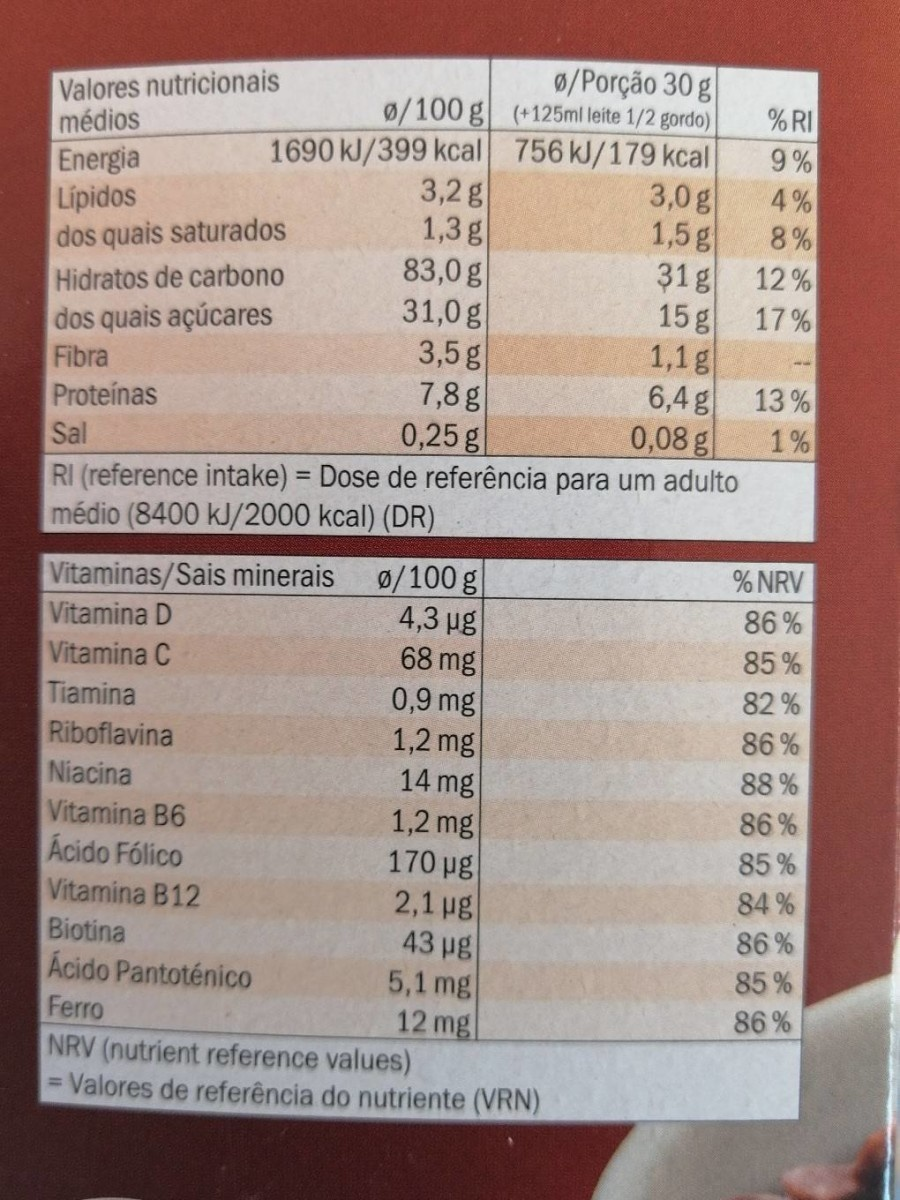column: (54, 77, 483, 450), (510, 68, 711, 454), (745, 103, 811, 455)
table: (47, 68, 822, 541)
